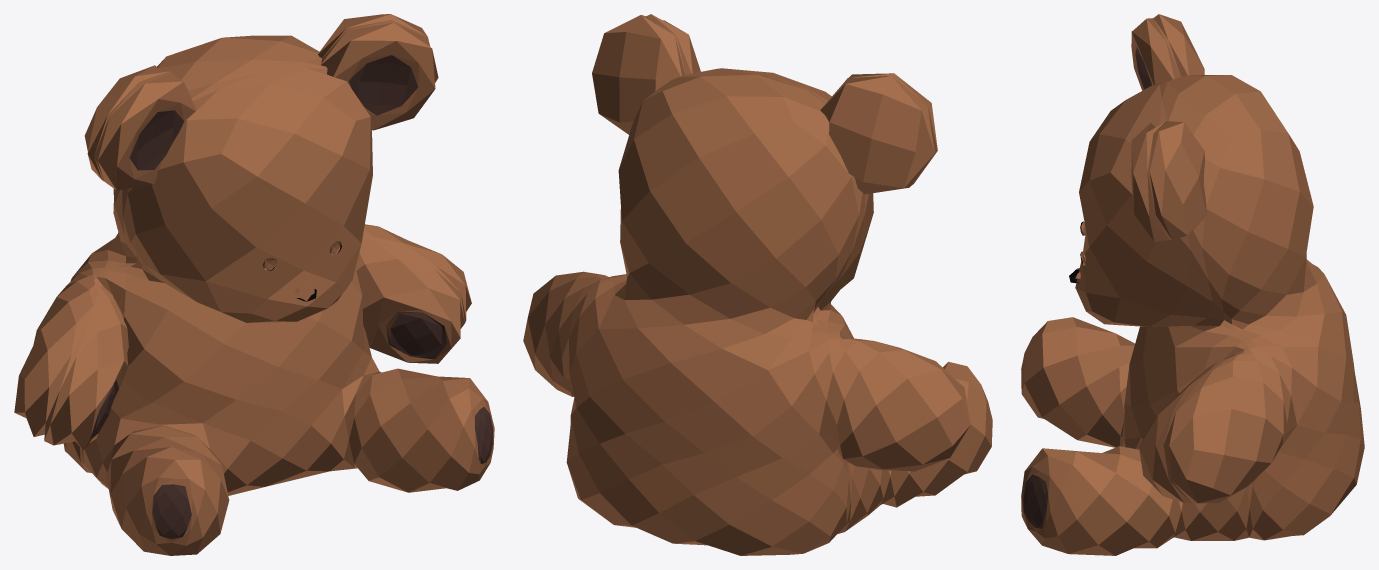
File: properBearLowerPoly.fbx
3 views of the same model, side by side, from view 1: azimuth 30°, elevation 25°; view 2: azimuth 150°, elevation 25°; view 3: azimuth 270°, elevation 25° (orthographic). The views are drawn at different scales.
Visible parts, largest first — view 1: Cube.004; view 2: Cube.004; view 3: Cube.004.
Boxes of the visible parts, box(x1,y1,x2,y2) form: Cube.004: box(14, 14, 494, 555); Cube.004: box(523, 14, 992, 555); Cube.004: box(1021, 14, 1364, 555).
Bounding box in the file's own units: 449 × 431 × 318.
